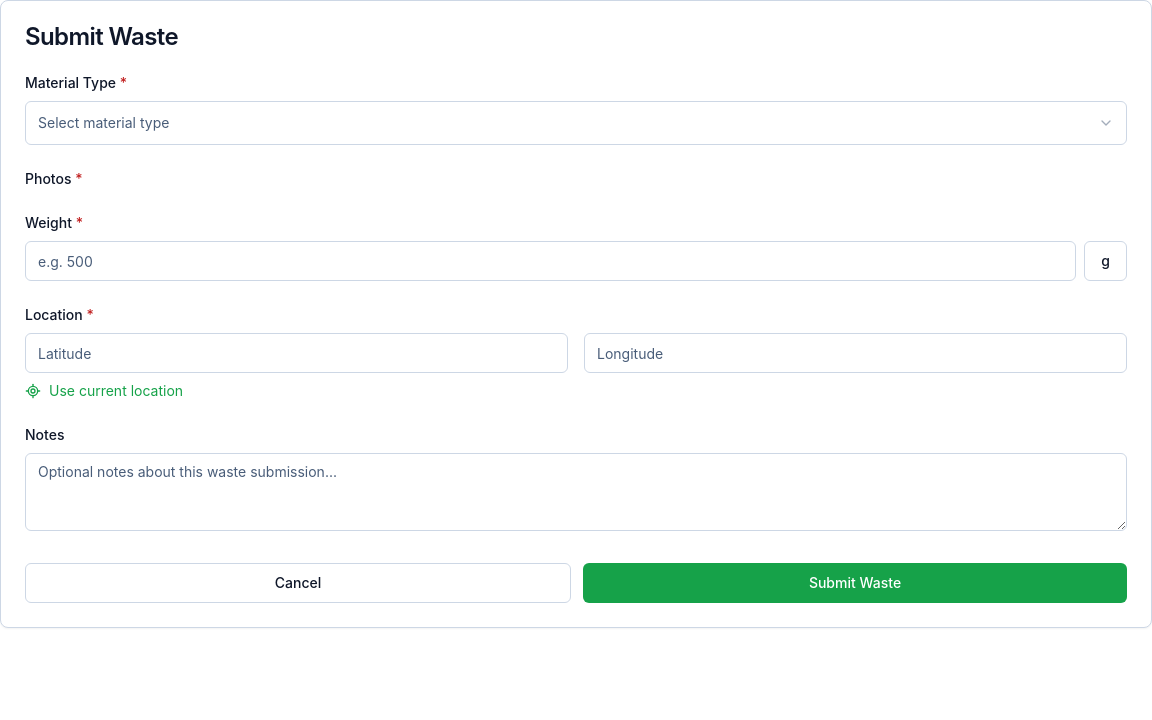
Test: WasteSubmissionForm › weight unit conversion works
The image size is (1152, 720).
Type "500" into the number field labelled "Weight *" at (551,261), box [25,241,1076,281]
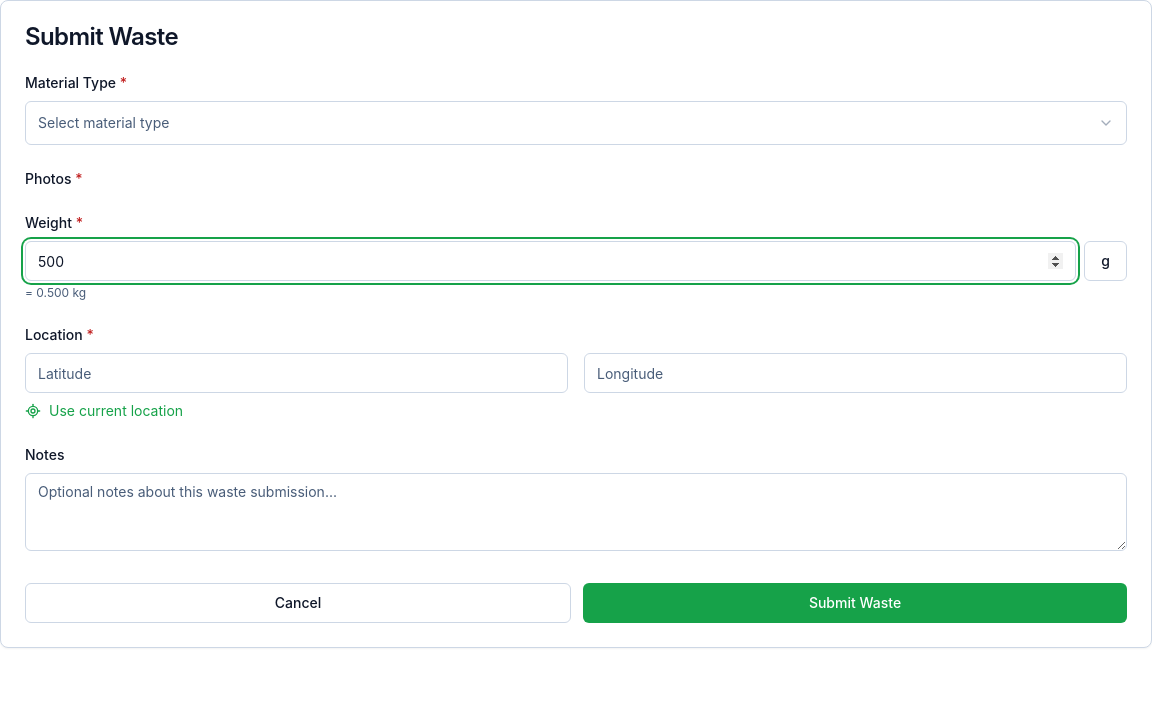
expect the text "= 0.500 kg" is shown: met, box [25,285,86,300]
Click the button named "Switch to kilograms" at (1106,261), box [1084,241,1127,281]
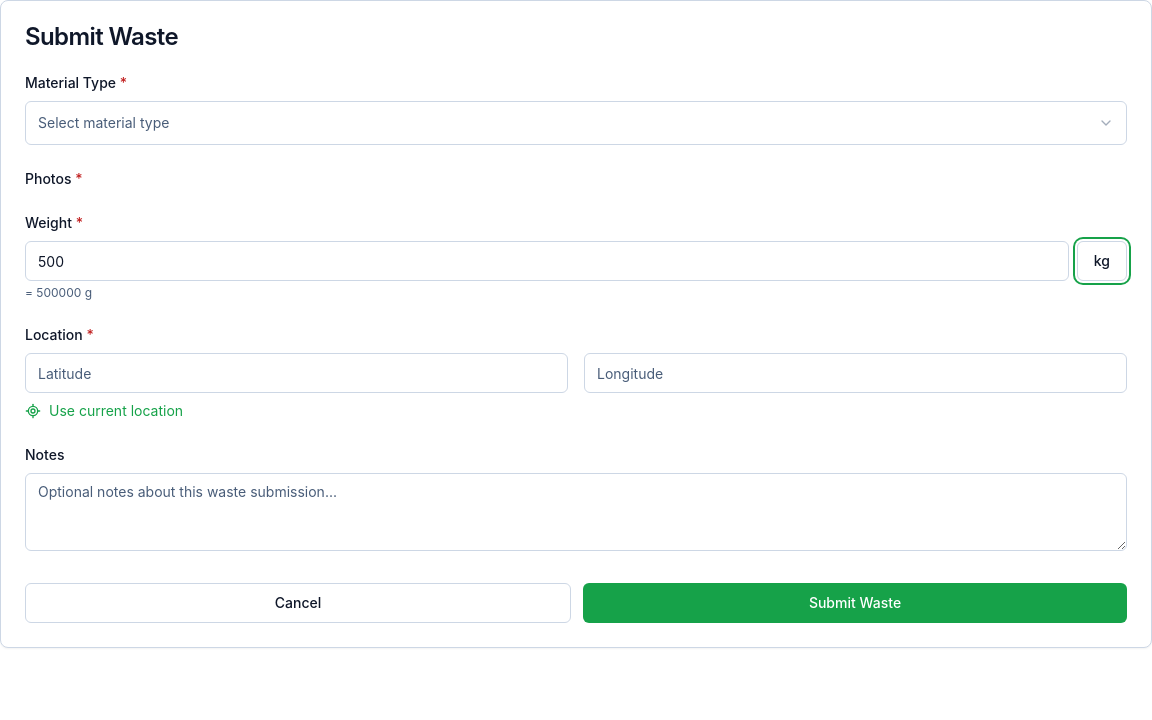
expect the text "= 500000 g" is shown: met, box [25,285,92,300]
